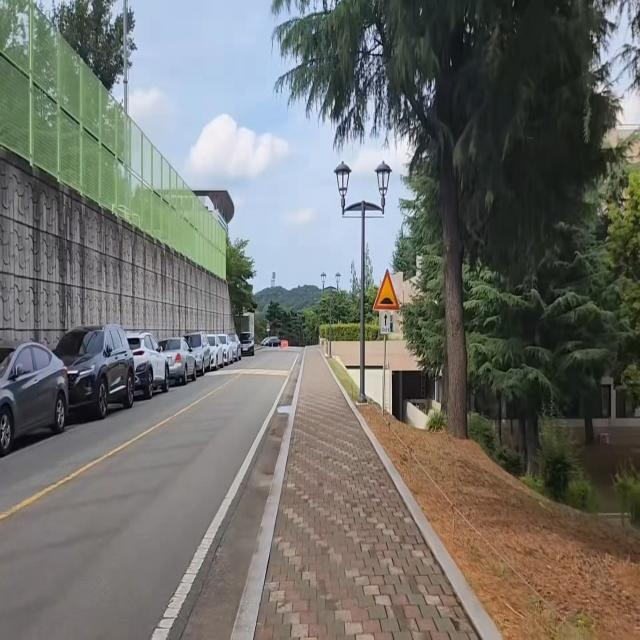road: (0, 344, 302, 640)
sidewalk: (232, 345, 497, 640)
